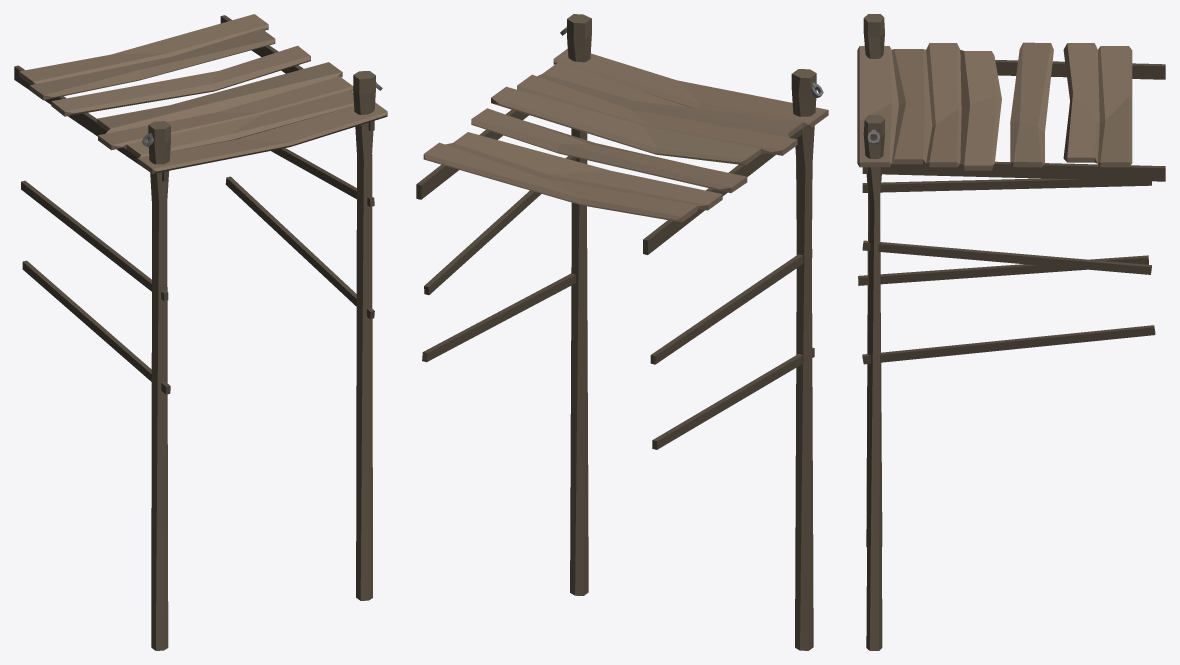
File: SM_Bld_Dock_03.glb
The picture shows the model from 3 angles, left to right: view 1: azimuth 30°, elevation 25°; view 2: azimuth 150°, elevation 25°; view 3: azimuth 270°, elevation 25°; orthographic projection. The views are drawn at different scales.
Visible parts, largest first — view 1: node_id4; view 2: node_id4; view 3: node_id4.
Part boxes in pixels (bbox=[...]): node_id4: bbox=[14, 14, 387, 650]; node_id4: bbox=[416, 14, 828, 650]; node_id4: bbox=[857, 14, 1165, 650].
Bounding box in the file's own units: 0.2552 × 0.512 × 0.2707.
1 material, 1 textured.
